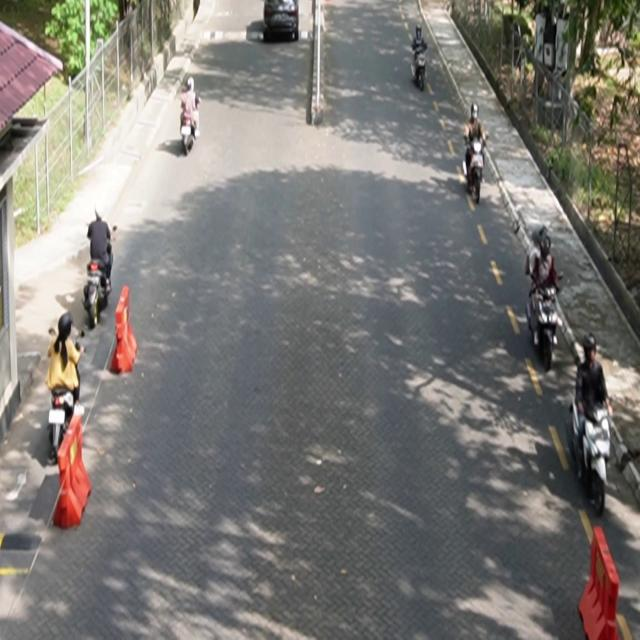car: (264, 1, 300, 42)
